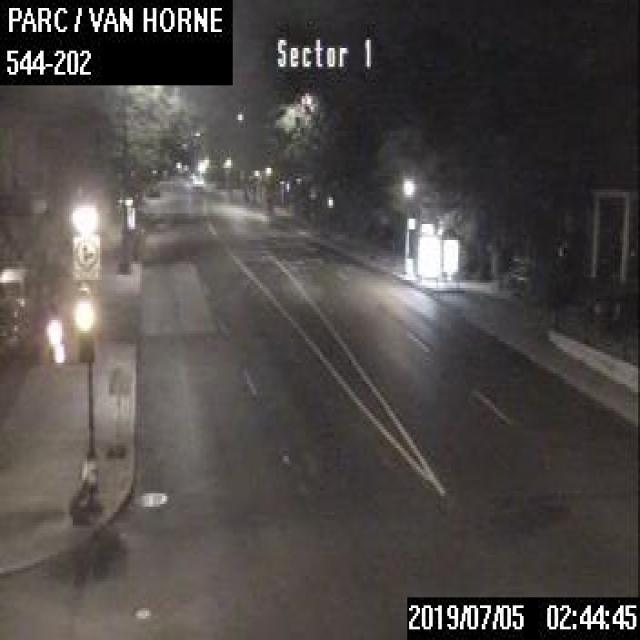vehicle: (0, 300, 31, 356), (0, 264, 33, 315), (191, 174, 203, 186)
